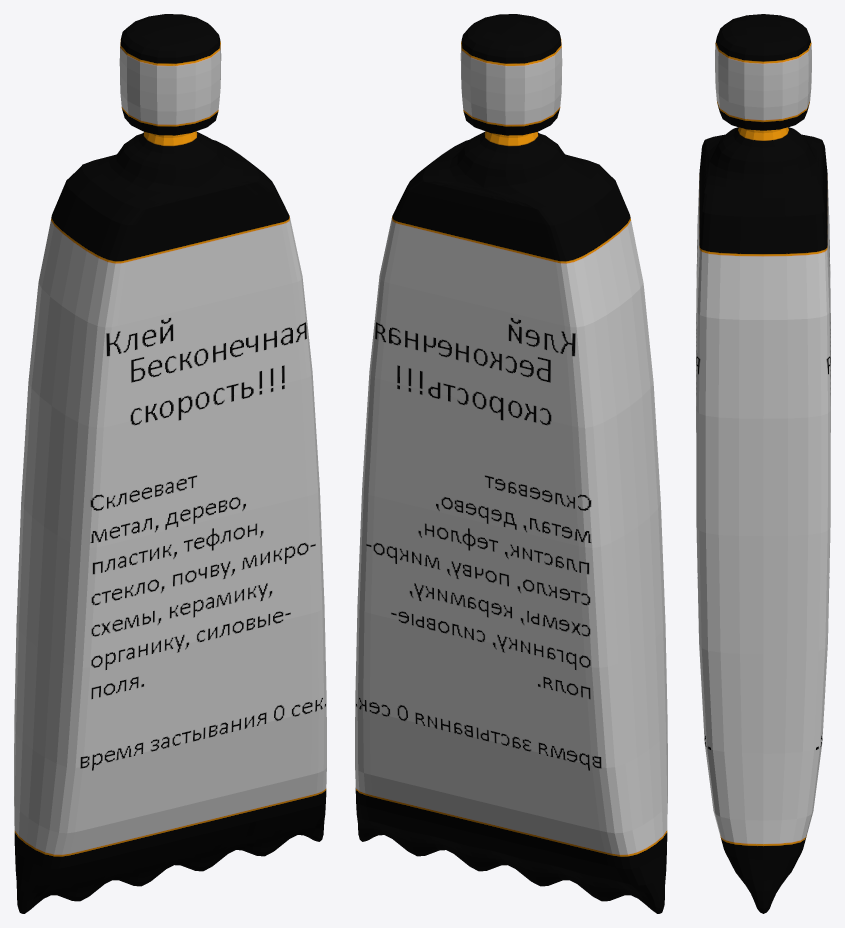
The model's file is kley.fbx.
The picture shows the model from 3 angles, left to right: view 1: azimuth 30°, elevation 25°; view 2: azimuth 150°, elevation 25°; view 3: azimuth 270°, elevation 25°; orthographic projection. The views are drawn at different scales.
Parts seen in each view (by area): view 1: Cube; view 2: Cube; view 3: Cube.
Part boxes in pixels (<box>): Cube: <box>14,14,326,913</box>; Cube: <box>355,14,667,913</box>; Cube: <box>696,14,830,913</box>.
Size of the model in its own units: 91.53 by 245 by 36.62.
Materials: 1 (1 with a texture image).
